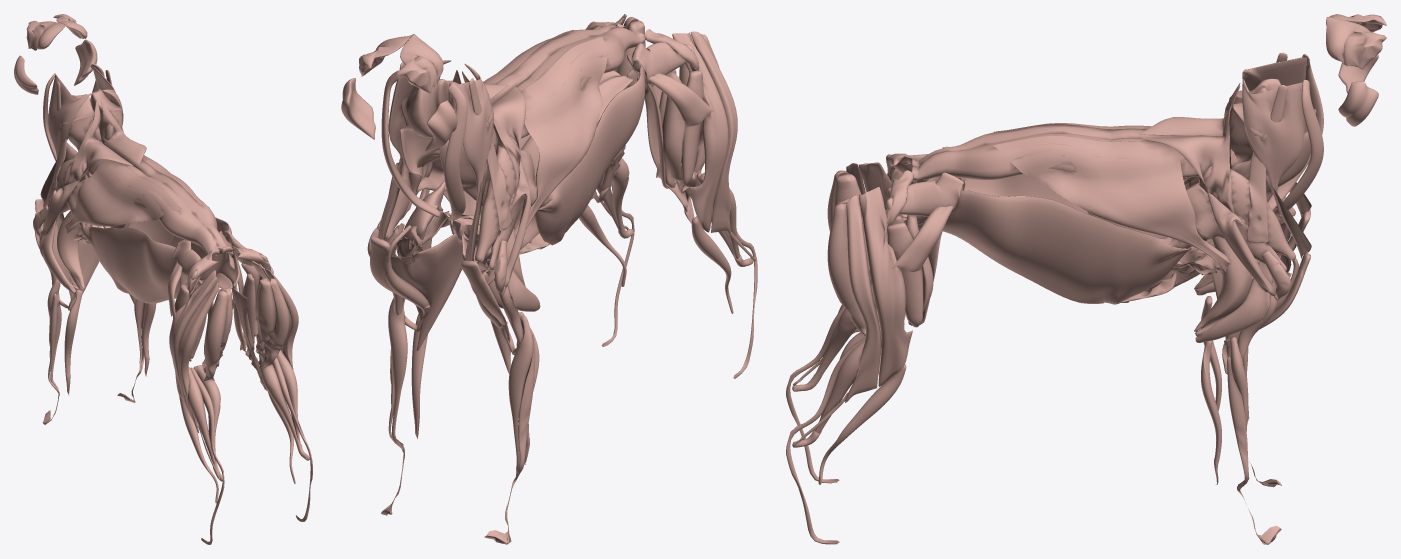
The model's file is muscular.glb.
The picture shows the model from 3 angles, left to right: view 1: azimuth 30°, elevation 25°; view 2: azimuth 150°, elevation 25°; view 3: azimuth 270°, elevation 25°; orthographic projection. The views are drawn at different scales.
Visible parts, largest first — view 1: dog_muscular_obliquus-externus-abdominis_L, dog_muscular_latissimus-dorsi_L, dog_muscular_epaxial_L, dog_muscular_epaxial_R, dog_muscular_brachiocephalicus_cleidocephalicus_L, dog_muscular_biceps-femoris_caudal_L, dog_muscular_trapezius_L, dog_muscular_biceps-femoris_cranial_L, dog_muscular_semitendinosus_L, dog_muscular_semimembranosus_R, dog_muscular_semitendinosus_R, dog_muscular_triceps-brachii_long_L (+36 smaller); view 2: dog_muscular_latissimus-dorsi_L, dog_muscular_obliquus-externus-abdominis_L, dog_muscular_pectorales_superficiales_R, dog_muscular_biceps-femoris_cranial_L, dog_muscular_epaxial_R, dog_muscular_brachiocephalicus_cleidocephalicus_L, dog_muscular_epaxial_L, dog_muscular_biceps-femoris_caudal_L, dog_muscular_trapezius_L, dog_muscular_sternocephalicus_L, dog_muscular_serratus-ventralis_R, dog_muscular_temporalis_L (+41 smaller); view 3: dog_muscular_obliquus-externus-abdominis_R, dog_muscular_latissimus-dorsi_R, dog_muscular_epaxial_R, dog_muscular_biceps-femoris_cranial_R, dog_muscular_brachiocephalicus_cleidocephalicus_R, dog_muscular_biceps-femoris_caudal_R, dog_muscular_trapezius_R, dog_muscular_epaxial_L, dog_muscular_semitendinosus_R, dog_muscular_temporalis_R, dog_muscular_omotransversarius_R, dog_muscular_triceps-brachii_long_R (+25 smaller).
Part boxes in pixels (left/top/right/bottom): dog_muscular_obliquus-externus-abdominis_L: left=80, top=223, right=202, bottom=301; dog_muscular_latissimus-dorsi_L: left=65, top=160, right=180, bottom=233; dog_muscular_epaxial_L: left=60, top=94, right=219, bottom=255; dog_muscular_epaxial_R: left=90, top=88, right=233, bottom=254; dog_muscular_brachiocephalicus_cleidocephalicus_L: left=40, top=74, right=92, bottom=202; dog_muscular_biceps-femoris_caudal_L: left=177, top=280, right=219, bottom=479; dog_muscular_trapezius_L: left=62, top=100, right=133, bottom=187; dog_muscular_biceps-femoris_cranial_L: left=169, top=270, right=217, bottom=410; dog_muscular_semitendinosus_L: left=204, top=290, right=227, bottom=380; dog_muscular_semimembranosus_R: left=255, top=278, right=276, bottom=365; dog_muscular_semitendinosus_R: left=259, top=278, right=289, bottom=390; dog_muscular_triceps-brachii_long_L: left=57, top=210, right=84, bottom=288; dog_muscular_latissimus-dorsi_L: left=484, top=36, right=607, bottom=284; dog_muscular_obliquus-externus-abdominis_L: left=534, top=66, right=653, bottom=245; dog_muscular_pectorales_superficiales_R: left=390, top=233, right=463, bottom=351; dog_muscular_biceps-femoris_cranial_L: left=672, top=32, right=728, bottom=232; dog_muscular_epaxial_R: left=406, top=25, right=617, bottom=138; dog_muscular_brachiocephalicus_cleidocephalicus_L: left=452, top=64, right=493, bottom=260; dog_muscular_epaxial_L: left=448, top=27, right=645, bottom=145; dog_muscular_biceps-femoris_caudal_L: left=690, top=31, right=755, bottom=260; dog_muscular_trapezius_L: left=462, top=71, right=525, bottom=198; dog_muscular_sternocephalicus_L: left=444, top=83, right=467, bottom=220; dog_muscular_serratus-ventralis_R: left=399, top=128, right=463, bottom=192; dog_muscular_temporalis_L: left=396, top=34, right=443, bottom=93; dog_muscular_obliquus-externus-abdominis_R: left=904, top=190, right=1191, bottom=304; dog_muscular_latissimus-dorsi_R: left=993, top=135, right=1253, bottom=279; dog_muscular_epaxial_R: left=911, top=87, right=1267, bottom=180; dog_muscular_biceps-femoris_cranial_R: left=859, top=187, right=912, bottom=386; dog_muscular_brachiocephalicus_cleidocephalicus_R: left=1242, top=78, right=1311, bottom=258; dog_muscular_biceps-femoris_caudal_R: left=793, top=195, right=881, bottom=445; dog_muscular_trapezius_R: left=1139, top=85, right=1242, bottom=219; dog_muscular_epaxial_L: left=910, top=78, right=1280, bottom=167; dog_muscular_semitendinosus_R: left=827, top=203, right=881, bottom=374; dog_muscular_temporalis_R: left=1326, top=17, right=1386, bottom=69; dog_muscular_omotransversarius_R: left=1247, top=85, right=1287, bottom=243; dog_muscular_triceps-brachii_long_R: left=1194, top=236, right=1252, bottom=331.
Size of the model in its own units: 0.2066 by 0.627 by 0.6848.
